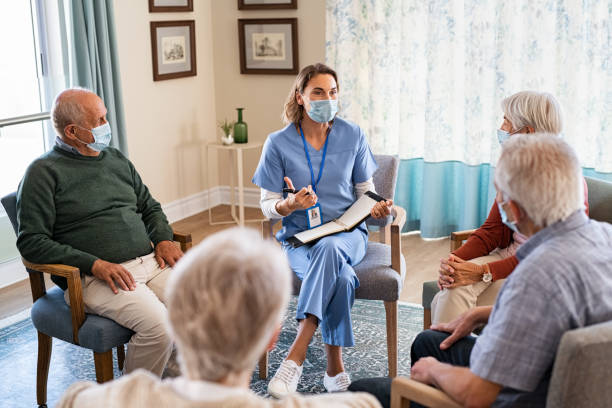with mask: (487, 162, 547, 239), (51, 86, 113, 154), (290, 60, 343, 127), (492, 94, 546, 149)
